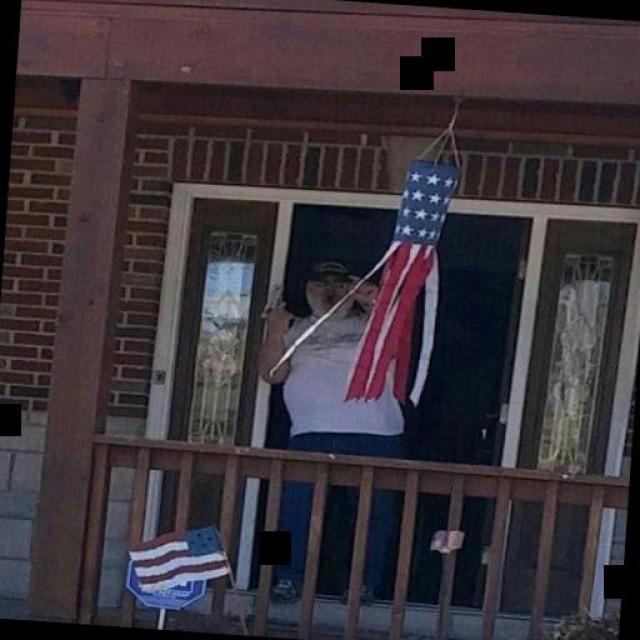gun: (245, 281, 303, 331)
